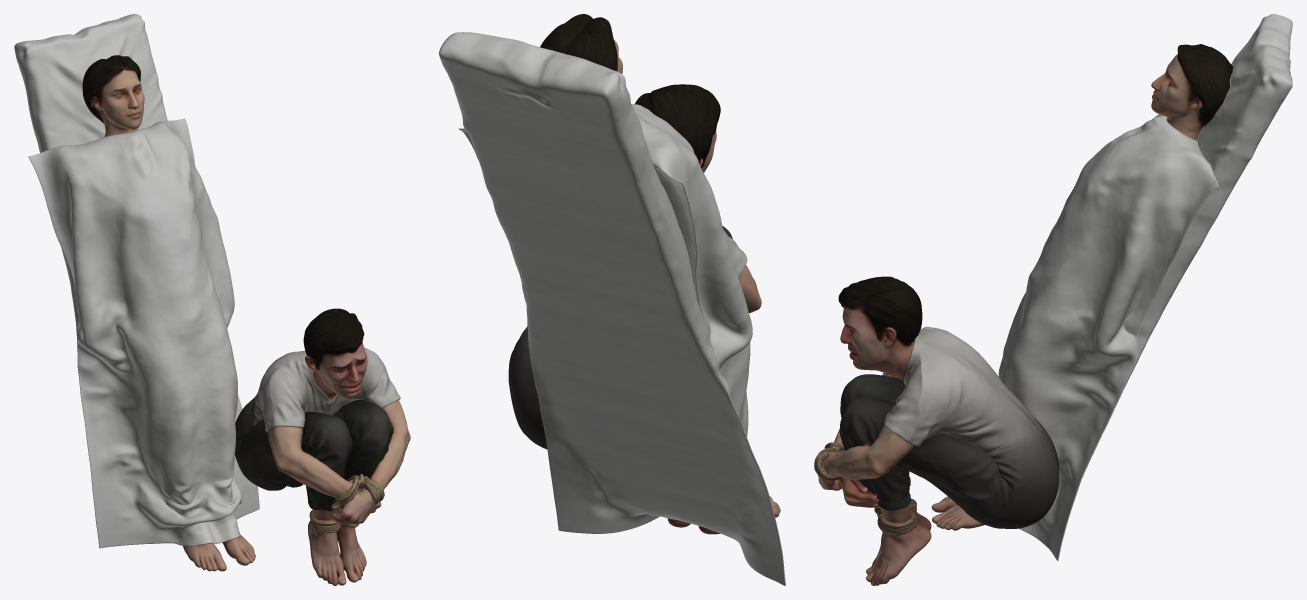
File: 52-el-humilladero-optimized.glb
3 renders of one model, left to right at view 1: azimuth 30°, elevation 25°; view 2: azimuth 150°, elevation 25°; view 3: azimuth 270°, elevation 25°, orthographic. The views are drawn at different scales.
Visible parts, largest first — view 1: tripo_node_1bdb5e44-96d4-419a-b8b8-013bdf54498e; view 2: tripo_node_1bdb5e44-96d4-419a-b8b8-013bdf54498e; view 3: tripo_node_1bdb5e44-96d4-419a-b8b8-013bdf54498e.
Boxes of the visible parts, x1,y1,x2,y2 form: tripo_node_1bdb5e44-96d4-419a-b8b8-013bdf54498e: (14,14,410,585); tripo_node_1bdb5e44-96d4-419a-b8b8-013bdf54498e: (439,14,785,585); tripo_node_1bdb5e44-96d4-419a-b8b8-013bdf54498e: (814,14,1292,585).
Bounding box in the file's own units: 0.5431 × 1 × 0.8827.
1 material, 1 textured.
